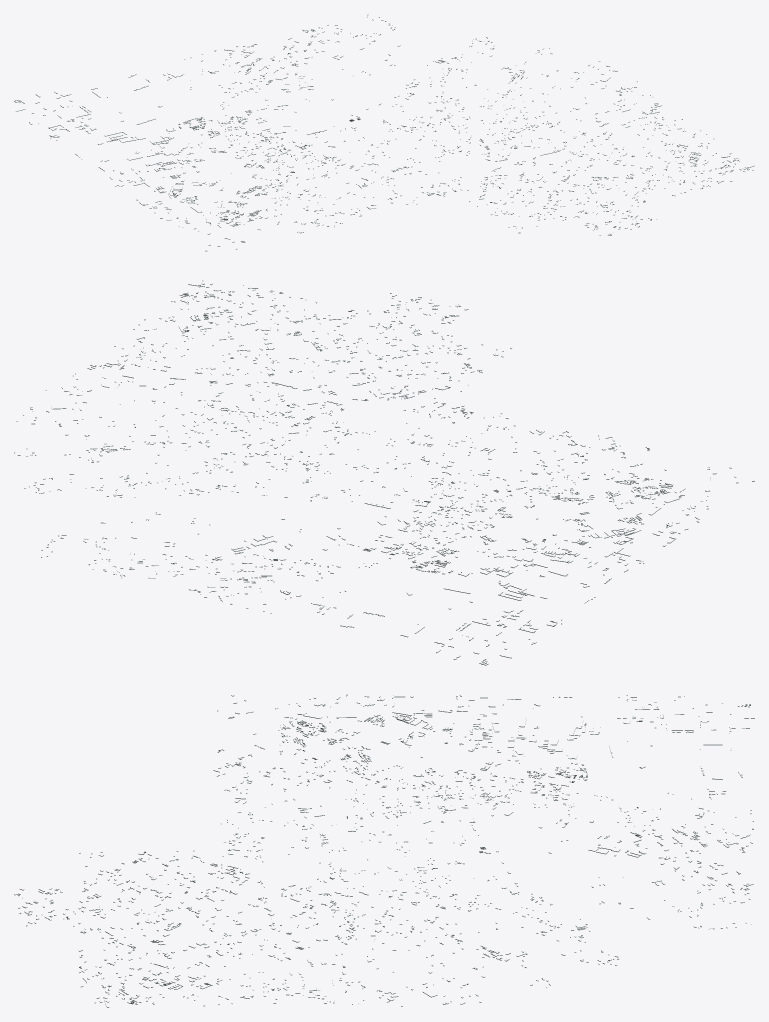
File: NoLod_105.glb
3 views of the same model, one above another, from view 1: azimuth 30°, elevation 25°; view 2: azimuth 150°, elevation 25°; view 3: azimuth 270°, elevation 25° (orthographic). The views are drawn at different scales.
Parts seen in each view (by area): view 1: rtc; view 2: rtc; view 3: rtc.
Boxes of the visible parts, bbox=[...] form: rtc: bbox=[14, 14, 754, 251]; rtc: bbox=[14, 280, 754, 665]; rtc: bbox=[14, 694, 754, 1007].
Bounding box in the file's own units: 6733 × 49.09 × 6753.
Materials: 1 (1 with a texture image).
